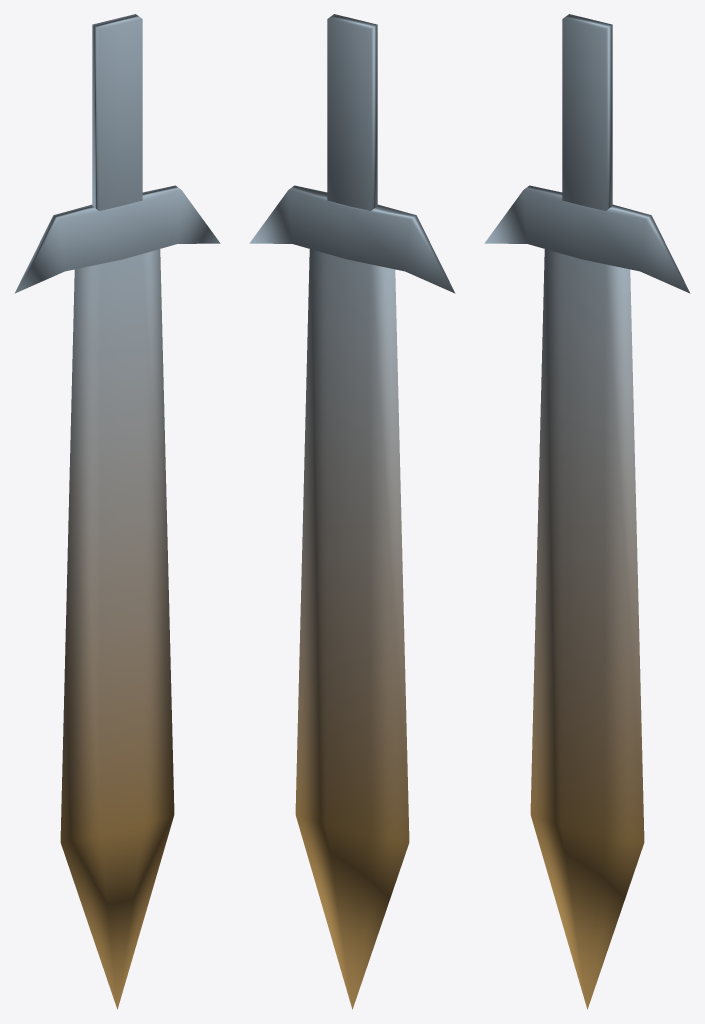
The model's file is tapion_sword.glb.
3 renders of one model, left to right at view 1: azimuth 30°, elevation 25°; view 2: azimuth 150°, elevation 25°; view 3: azimuth 330°, elevation 25°, orthographic.
Visible parts, largest first — view 1: knight_sword; view 2: knight_sword; view 3: knight_sword.
Boxes of the visible parts, x1=… form: knight_sword: x1=14, y1=14, x2=220, y2=1009; knight_sword: x1=249, y1=14, x2=455, y2=1009; knight_sword: x1=484, y1=14, x2=690, y2=1009.
Bounding box in the file's own units: 0.2404 × 1.1 × 0.0243.
